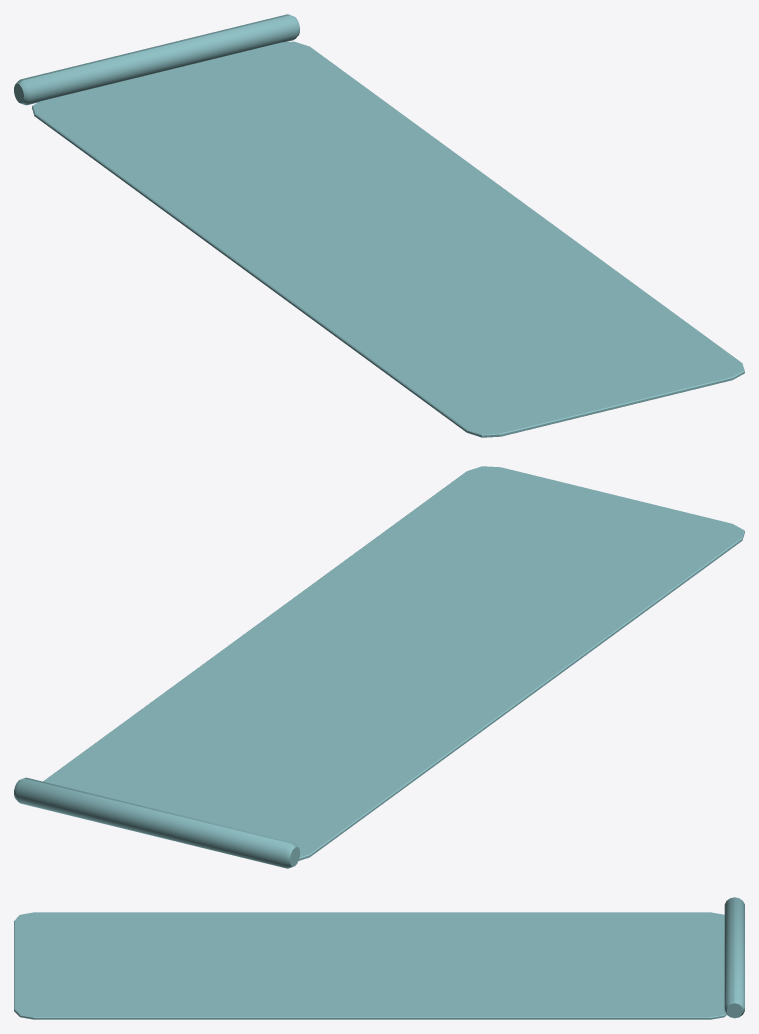
File: yoga_mat.glb
3 views of the same model, one above another, from view 1: azimuth 30°, elevation 25°; view 2: azimuth 150°, elevation 25°; view 3: azimuth 270°, elevation 25° (orthographic). The views are drawn at different scales.
Visible parts, largest first — view 1: yoga-mat-flat; view 2: yoga-mat-flat; view 3: yoga-mat-flat.
Boxes of the visible parts, x1,y1,x2,y2 form: yoga-mat-flat: [14, 14, 744, 437]; yoga-mat-flat: [14, 466, 744, 868]; yoga-mat-flat: [14, 897, 744, 1019].
Size of the model in its own units: 0.6199 by 0.0521 by 1.82.
